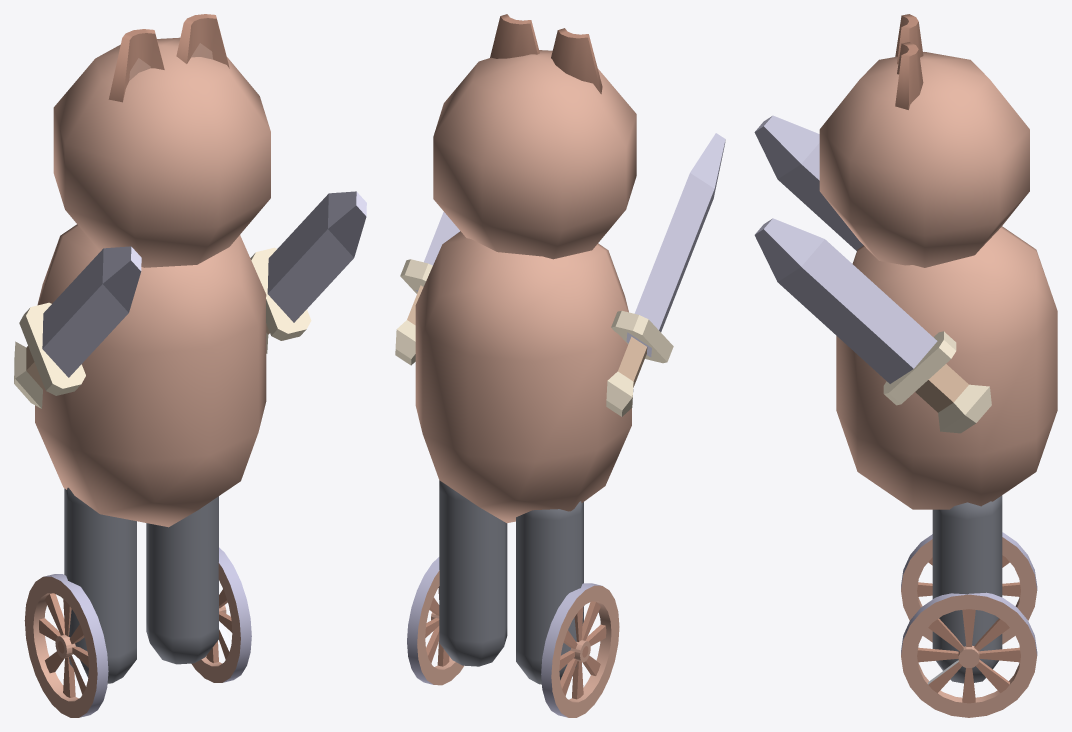
File: enemy1.gltf
3 renders of one model, left to right at view 1: azimuth 30°, elevation 25°; view 2: azimuth 150°, elevation 25°; view 3: azimuth 270°, elevation 25°, orthographic. The views are drawn at different scales.
Parts seen in each view (by area): view 1: evildude; view 2: evildude; view 3: evildude.
Boxes of the visible parts, bbox=[...] form: evildude: bbox=[14, 14, 366, 717]; evildude: bbox=[395, 14, 725, 717]; evildude: bbox=[754, 14, 1057, 717].
Size of the model in its own units: 1.26 by 3.23 by 1.37.
